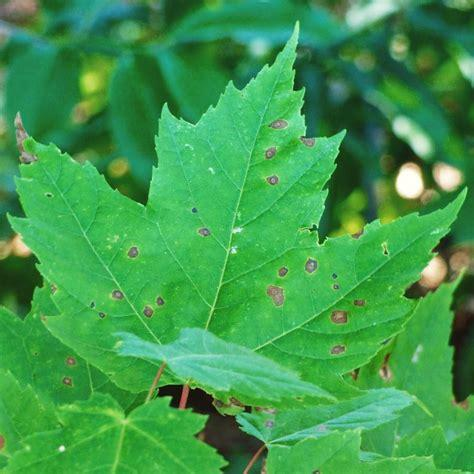black-spot: (263, 259, 367, 343), (100, 239, 169, 320), (237, 111, 297, 198)
